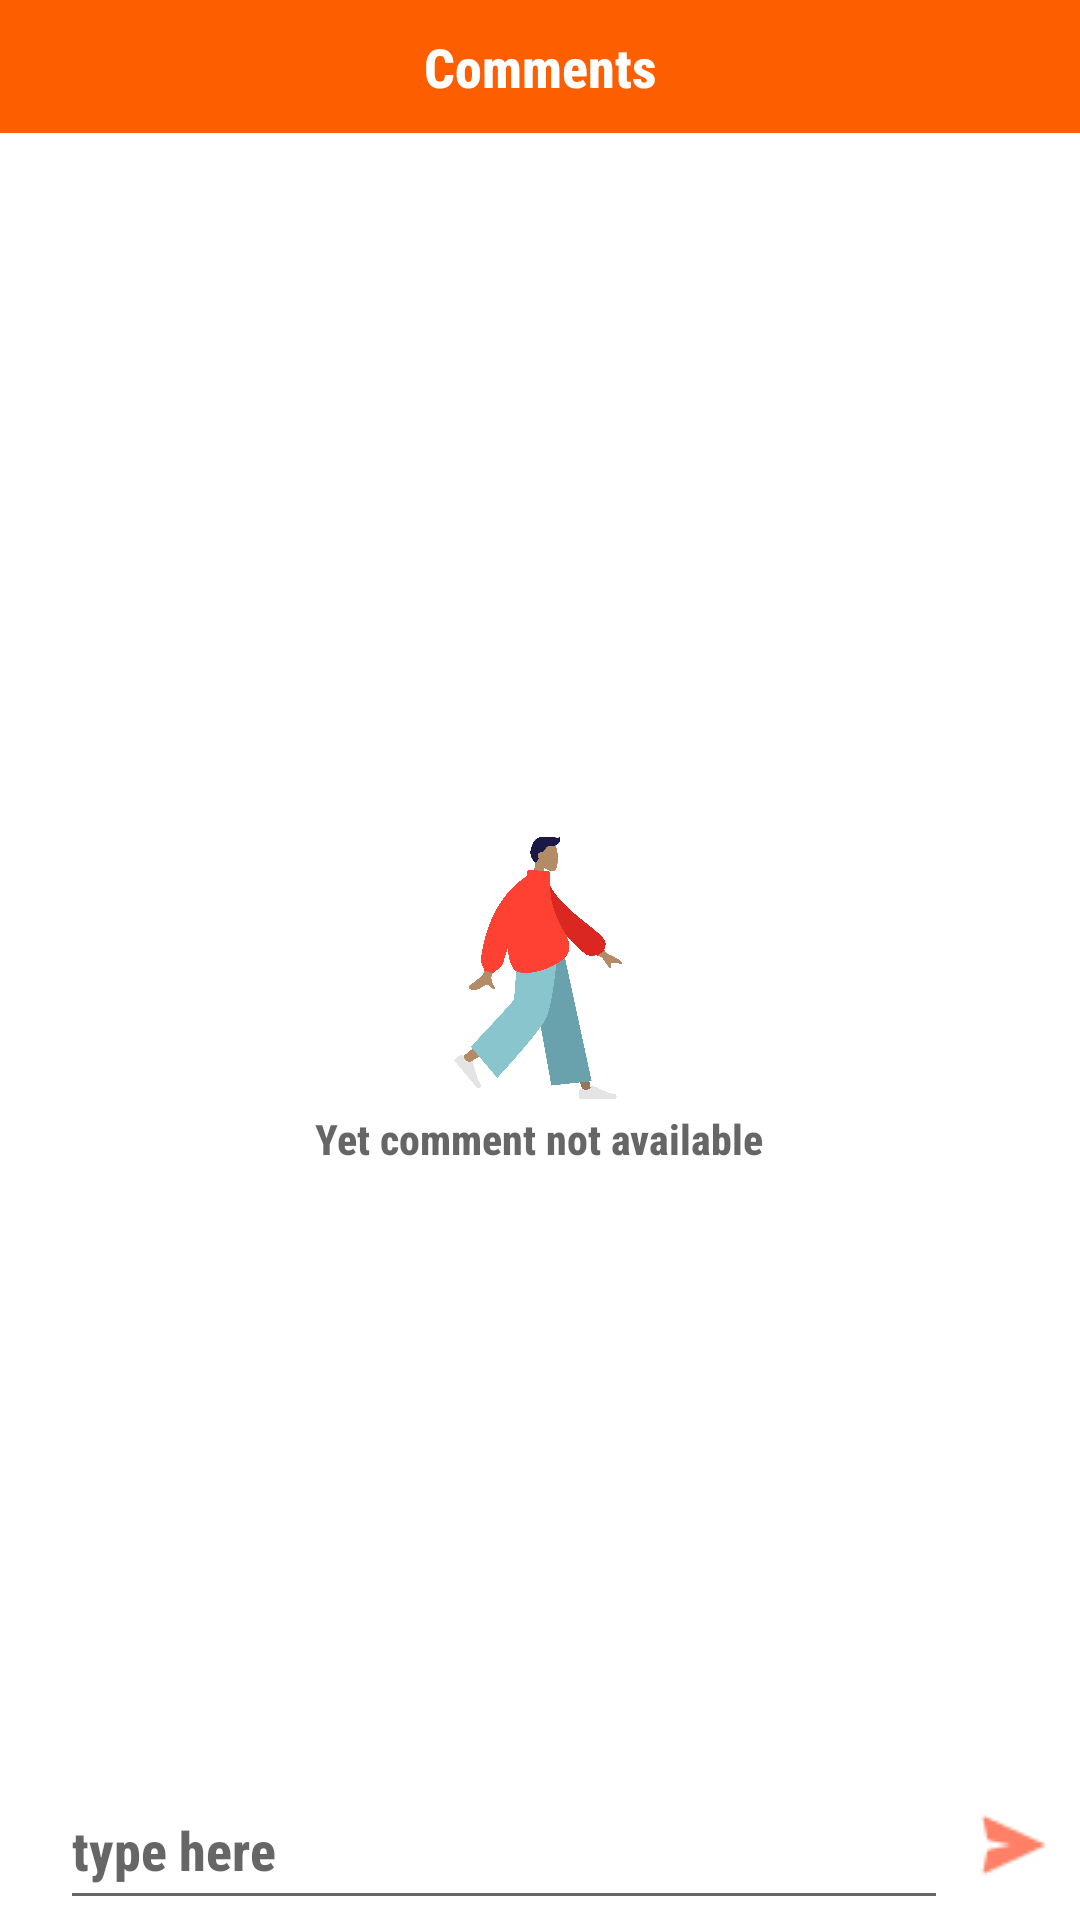

Named icons in this screenshot (1080px×1920px) and their bounding boxes, (x1, y1, x2, y2):
empty: (454, 837, 622, 1099)
send: (982, 1815, 1045, 1875)
